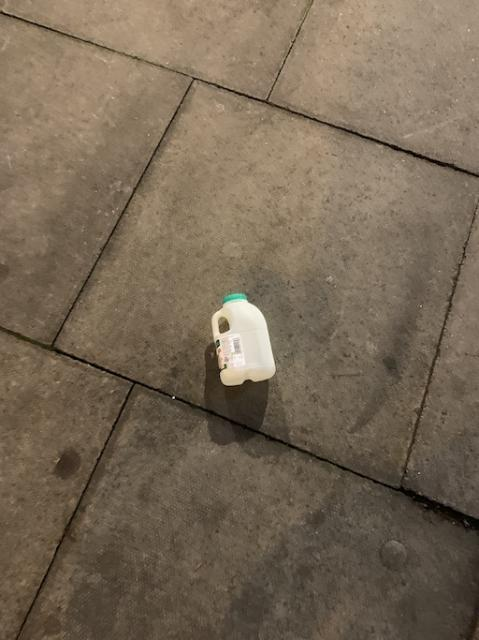plastic: (211, 292, 274, 384)
